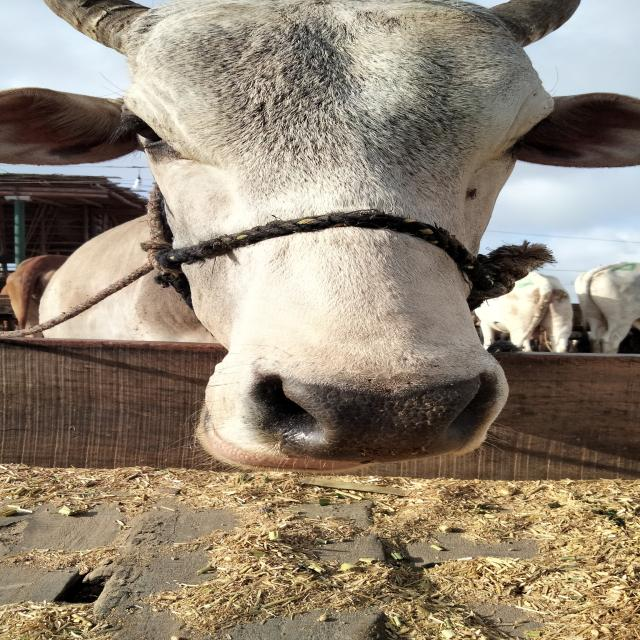muzzles: (233, 354, 496, 471)
